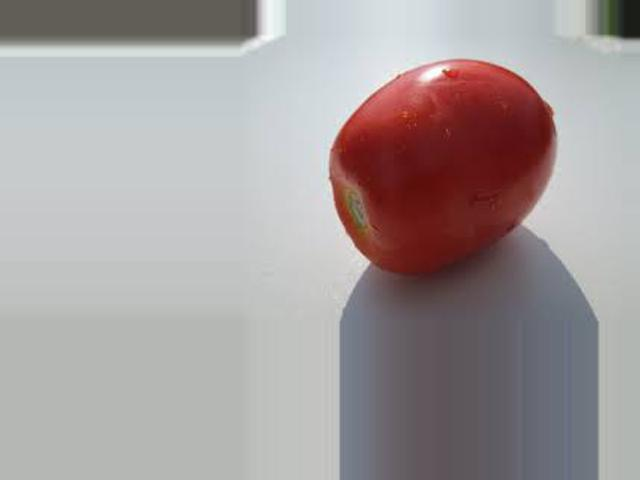tomato: (329, 58, 556, 273)
